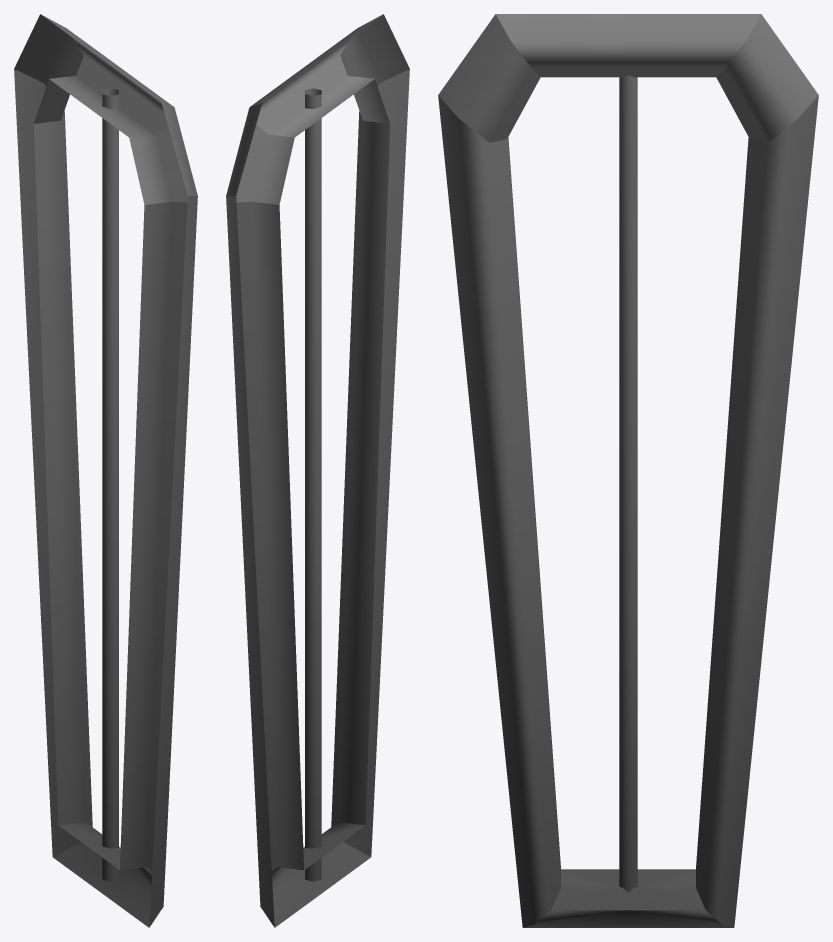
The model's file is Window_Lv02.fbx.
3 renders of one model, left to right at view 1: azimuth 30°, elevation 25°; view 2: azimuth 150°, elevation 25°; view 3: azimuth 270°, elevation 25°, orthographic. The views are drawn at different scales.
Parts seen in each view (by area): view 1: Tile85; view 2: Tile85; view 3: Tile85.
Part boxes in pixels (x1=…): Tile85: x1=14, y1=14, x2=197, y2=927; Tile85: x1=226, y1=14, x2=409, y2=927; Tile85: x1=438, y1=14, x2=818, y2=927.
Bounding box in the file's own units: 27.33 × 558 × 211.
